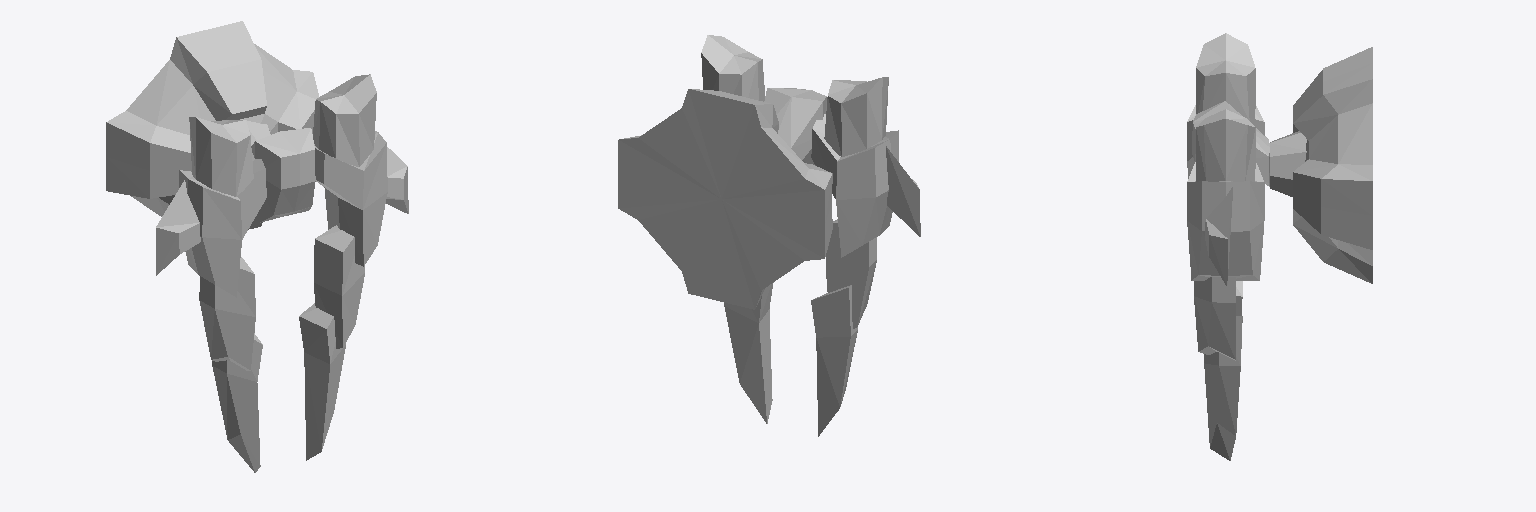
Rendered from turret-08.obj.
The picture shows the model from 3 angles: view 1: azimuth 30°, elevation 25°; view 2: azimuth 150°, elevation 25°; view 3: azimuth 270°, elevation 25°; orthographic projection.
Parts seen in each view (by area): view 1: turret_08; view 2: turret_08; view 3: turret_08.
Boxes of the visible parts, box(x1,y1,x2,y2) form: turret_08: box(106, 21, 408, 472); turret_08: box(618, 35, 920, 436); turret_08: box(1187, 33, 1372, 460).
Size of the model in its own units: 5.47 by 7.99 by 3.48.